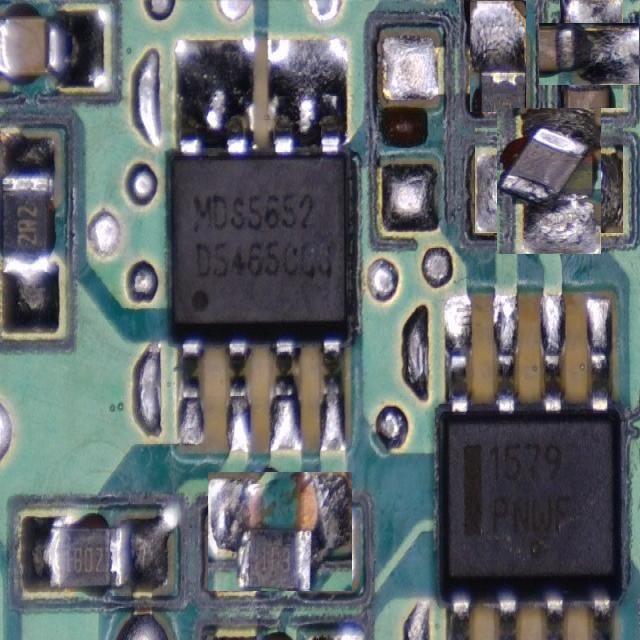Incorrect_installation: (209, 473, 351, 590), (497, 108, 601, 254), (469, 0, 526, 112), (538, 23, 640, 85)
